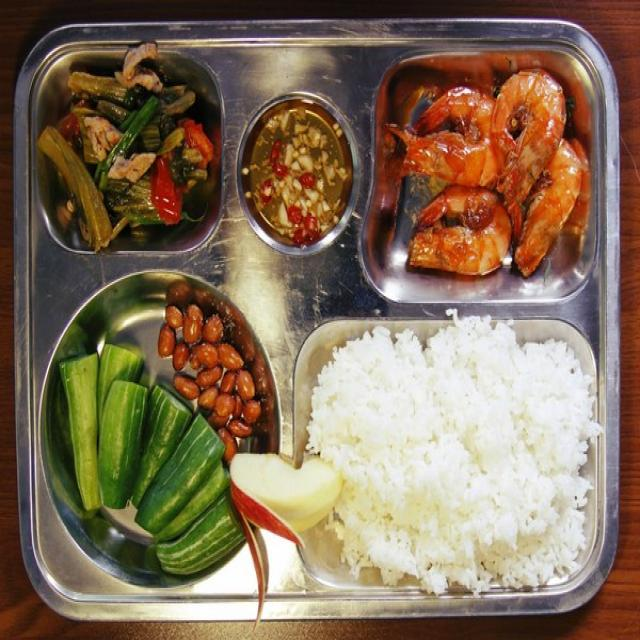com: (307, 319, 599, 593)
dua leo: (60, 344, 243, 574)
tom: (388, 69, 587, 276)
